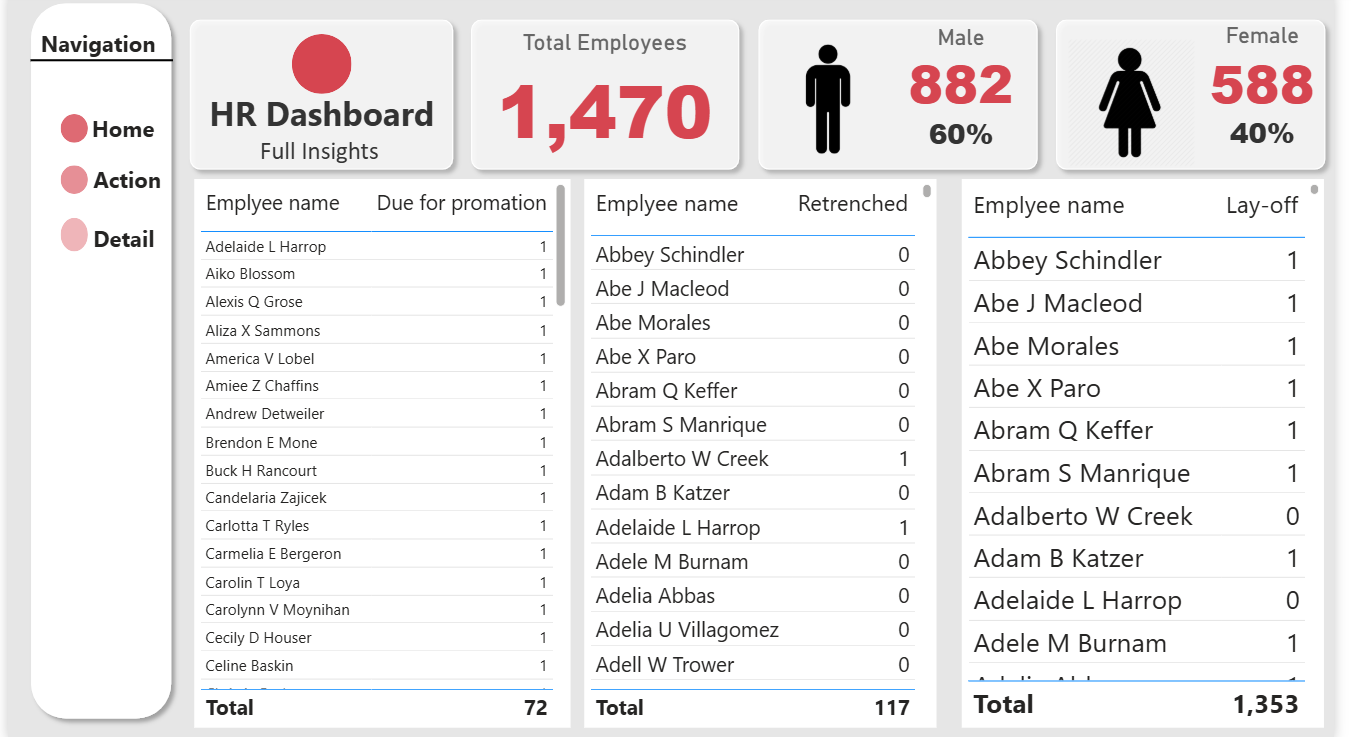

The page's visual inventory and layout, read from the dashboard file:
{"tool":"powerbi","page":{"name":"Action","canvas":[1280,720],"ordinal":1},"visuals":[{"type":"shape","box":[13.3,0,153.2,708.2],"z":0},{"type":"shape","box":[166.3,15.1,272.1,162.8],"z":1000},{"type":"shape","box":[438.4,15.1,276.7,162.8],"z":2000},{"type":"shape","box":[1002.3,15.1,277.9,162.8],"z":3000},{"type":"shape","box":[715.1,15.1,287.2,162.8],"z":4000},{"type":"textbox","box":[179.8,88.1,246.1,55.5],"z":5000},{"type":"textbox","box":[179.8,131.5,241.3,47.1],"z":6000},{"type":"shape","box":[273.9,38.6,57.9,57.9],"z":7000},{"type":"card","title":"Total Employees","fields":{"Values":["Dax functions.Total Emp"]},"box":[457.2,33.8,237.7,125.5],"z":8000},{"type":"card","title":"Male","fields":{"Values":["Dax functions.Male"]},"box":[848.1,29,143.6,86.9],"z":9000},{"type":"card","title":"Male","fields":{"Values":["Dax functions.% male"]},"box":[848.1,106.2,143.6,59.1],"z":10000},{"type":"card","title":"Female","fields":{"Values":["Dax functions.Female"]},"box":[1141.3,27.7,138.7,88.1],"z":11000},{"type":"card","title":"Male","fields":{"Values":["Dax functions.% female"]},"box":[1141.3,105,138.7,59.1],"z":12000},{"type":"image","box":[726.3,38.6,132.7,125.5],"z":13000},{"type":"image","box":[1012.2,38.6,144.8,132.7],"z":14000},{"type":"tableEx","fields":{"Values":["HR Analytics Data.Emplyee name","Dax functions.Due for promation"]},"box":[179.8,178.6,363.1,529.6],"z":15000},{"type":"tableEx","fields":{"Values":["HR Analytics Data.Emplyee name","Dax functions.Retrenched"]},"box":[556.2,178.6,340.2,529.6],"z":16000},{"type":"tableEx","fields":{"Values":["HR Analytics Data.Emplyee name","Dax functions.Lay-off"]},"box":[920.5,178.6,349.9,529.6],"z":17000},{"type":"textbox","box":[26.5,27.7,126.7,43.4],"z":18000},{"type":"textbox","box":[77.2,159.3,126.7,43.4],"z":19000},{"type":"textbox","box":[76,109.8,126.7,43.4],"z":20000},{"type":"textbox","box":[77.2,216,126.7,43.4],"z":21000},{"type":"shape","box":[21.7,31.4,137.5,65.1],"z":22000},{"type":"shape","box":[50.7,115.8,26.5,27.7],"z":23000},{"type":"shape","box":[50.7,165.3,26.5,27.7],"z":24000},{"type":"shape","box":[50.7,216,26.5,32.6],"z":25000}]}

Visuals, with their boxes on the page's 1280x720 design canvas (x1, y1, x2, y2). These are canvas units, not pixel positions in the 1351x737 screenshot, which may show the page scaled, cropped or inside an application window:
shape: <region>13, 0, 166, 708</region>
shape: <region>166, 15, 438, 178</region>
shape: <region>438, 15, 715, 178</region>
shape: <region>1002, 15, 1280, 178</region>
shape: <region>715, 15, 1002, 178</region>
textbox: <region>180, 88, 426, 144</region>
textbox: <region>180, 132, 421, 179</region>
shape: <region>274, 39, 332, 96</region>
"Total Employees" card: <region>457, 34, 695, 159</region>
"Male" card: <region>848, 29, 992, 116</region>
"Male" card: <region>848, 106, 992, 165</region>
"Female" card: <region>1141, 28, 1280, 116</region>
"Male" card: <region>1141, 105, 1280, 164</region>
image: <region>726, 39, 859, 164</region>
image: <region>1012, 39, 1157, 171</region>
tableEx - HR Analytics Data.Emplyee name x Dax functions.Due for promation: <region>180, 179, 543, 708</region>
tableEx - HR Analytics Data.Emplyee name x Dax functions.Retrenched: <region>556, 179, 896, 708</region>
tableEx - HR Analytics Data.Emplyee name x Dax functions.Lay-off: <region>920, 179, 1270, 708</region>
textbox: <region>26, 28, 153, 71</region>
textbox: <region>77, 159, 204, 203</region>
textbox: <region>76, 110, 203, 153</region>
textbox: <region>77, 216, 204, 259</region>
shape: <region>22, 31, 159, 96</region>
shape: <region>51, 116, 77, 144</region>
shape: <region>51, 165, 77, 193</region>
shape: <region>51, 216, 77, 249</region>
